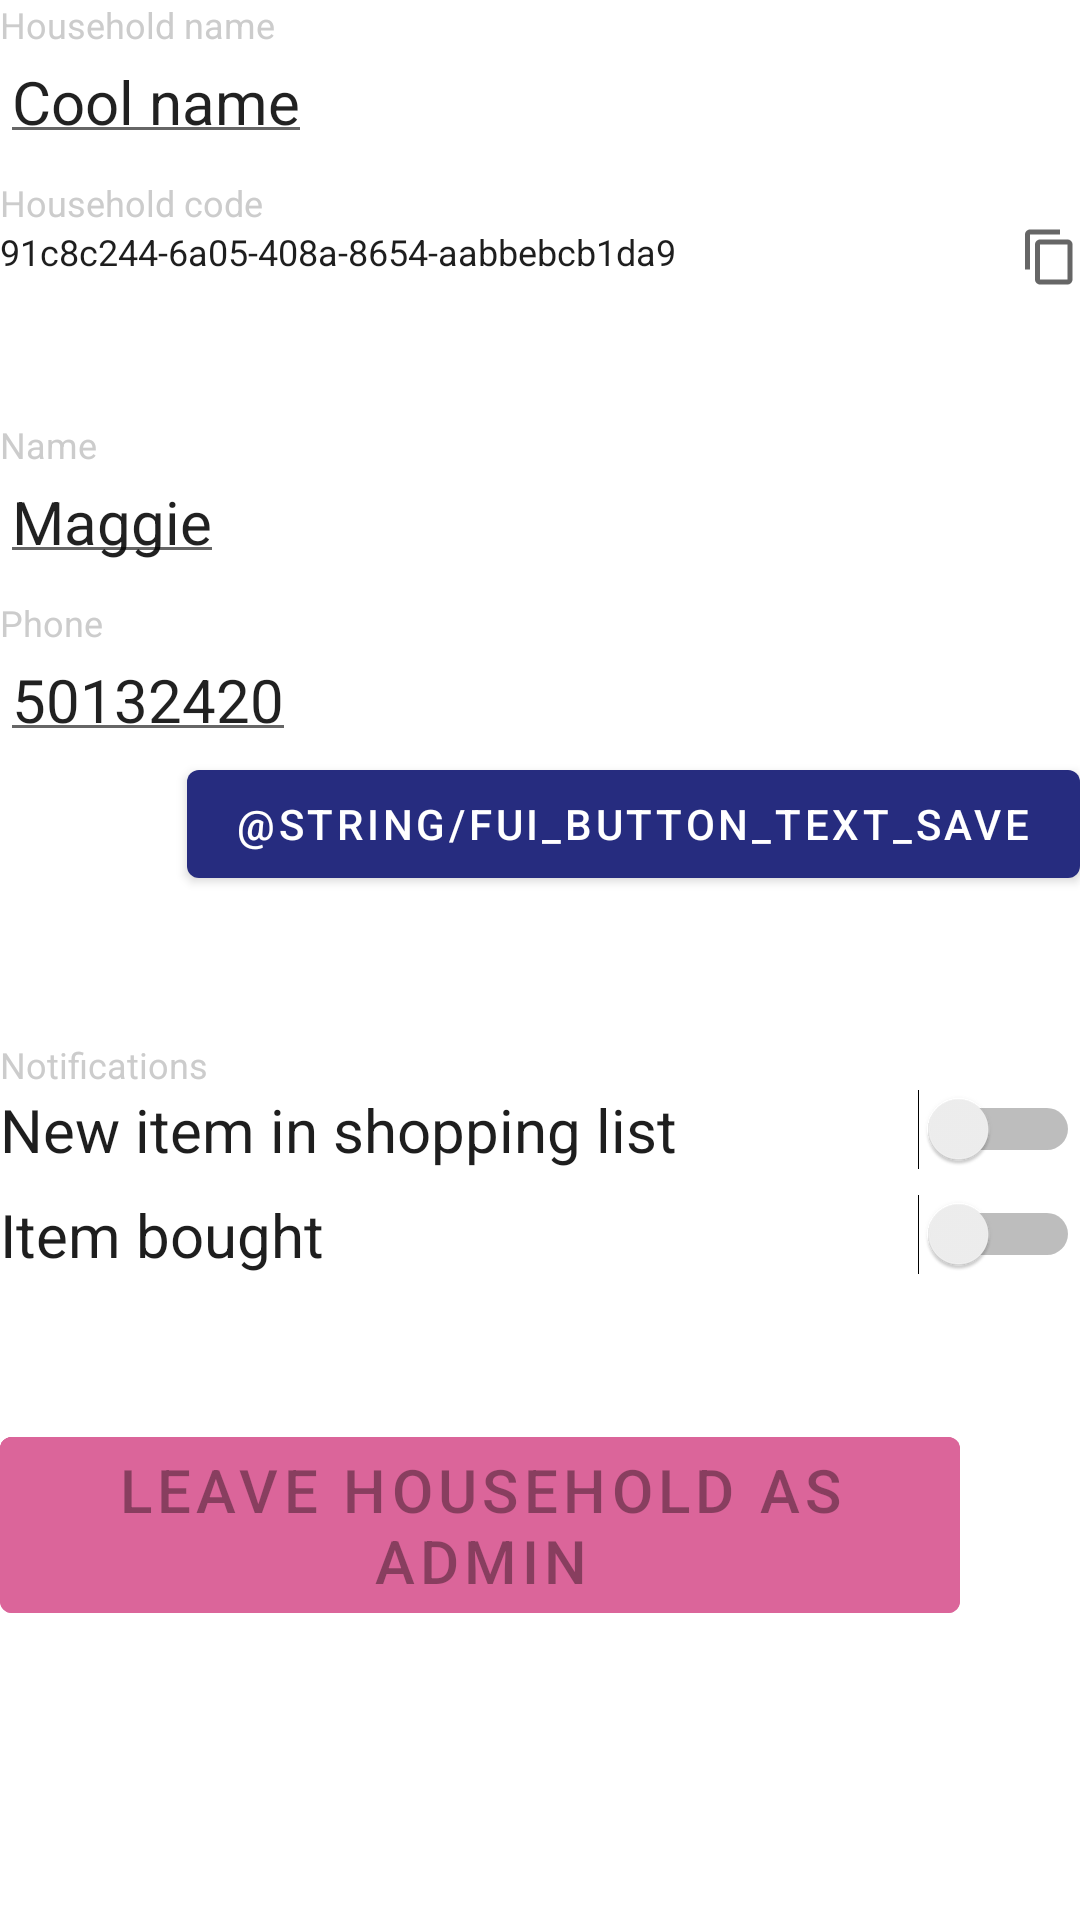

Icon click points for this 1080*1920 phone screenshot, format (x,y):
Copy button: (1049,257)
